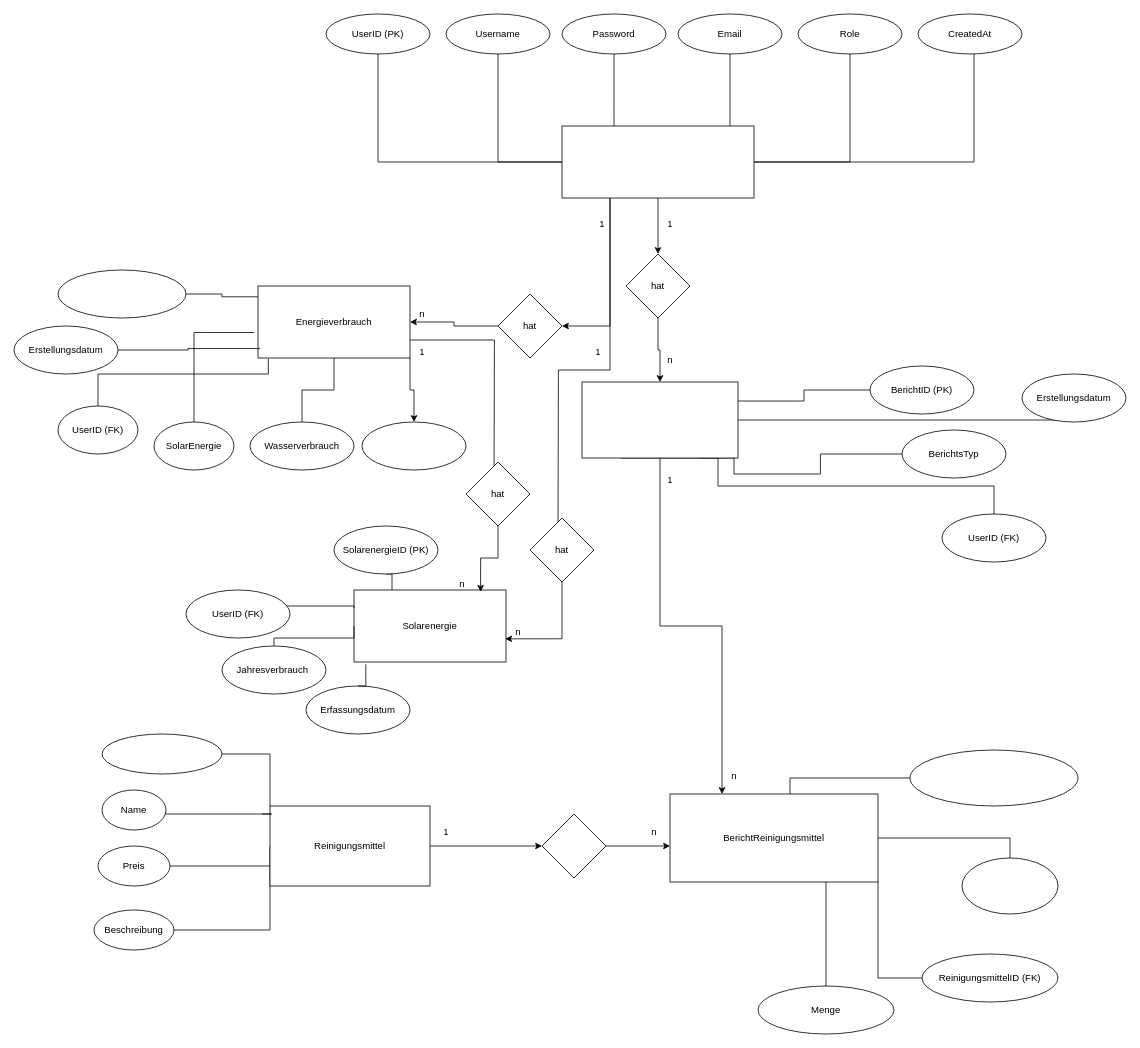
This 1140x1048 diagram has some shape labels left out. The box of each missing label's shape, as (x1, y1, x2, y2) in pixels:
Berichte: (581, 381, 738, 458)
BerichtID (FK): (961, 857, 1058, 914)
BerichtReinigungsmittelID (PK): (909, 749, 1078, 806)
EnergieverbrauchID (PK): (57, 269, 186, 318)
ist in: (541, 813, 606, 878)
ReinigungsmittelID (PK): (101, 733, 222, 774)
Solarenergie (FK): (361, 421, 466, 470)
User: (561, 125, 754, 198)
